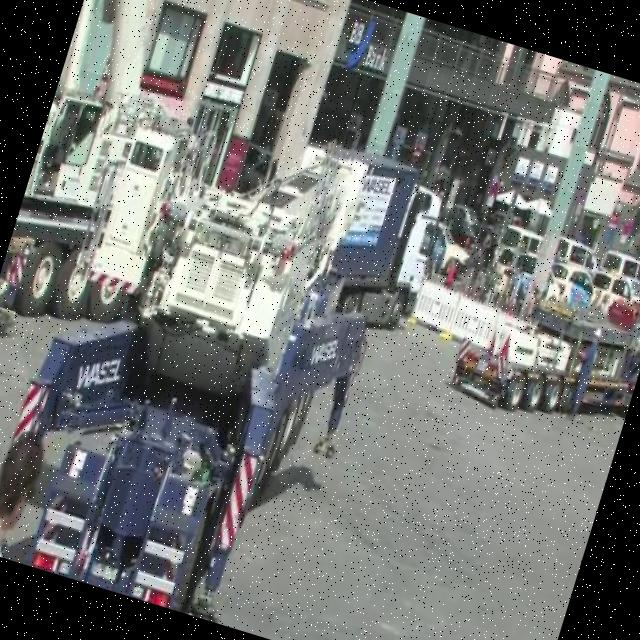Mobile Crane: (0, 112, 403, 639)
